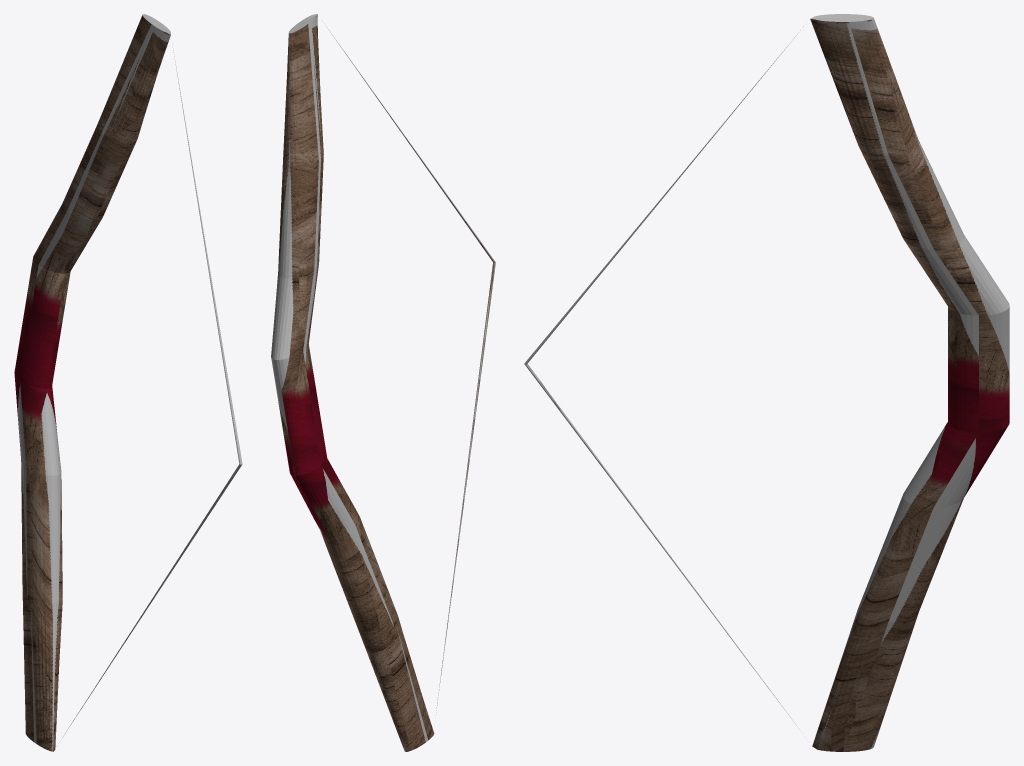
Rendered from Protagonista17.obj.
The picture shows the model from 3 angles, left to right: view 1: azimuth 30°, elevation 25°; view 2: azimuth 150°, elevation 25°; view 3: azimuth 270°, elevation 25°; orthographic projection. The views are drawn at different scales.
Visible parts, largest first — view 1: Cilindro; view 2: Cilindro; view 3: Cilindro.
Part boxes in pixels (left/top/right/bottom): Cilindro: left=14, top=14, right=242, bottom=751; Cilindro: left=271, top=14, right=495, bottom=751; Cilindro: left=524, top=14, right=1009, bottom=751.
Size of the model in its own units: 0.1877 by 0.9705 by 0.536.
Materials: 1 (1 with a texture image).
